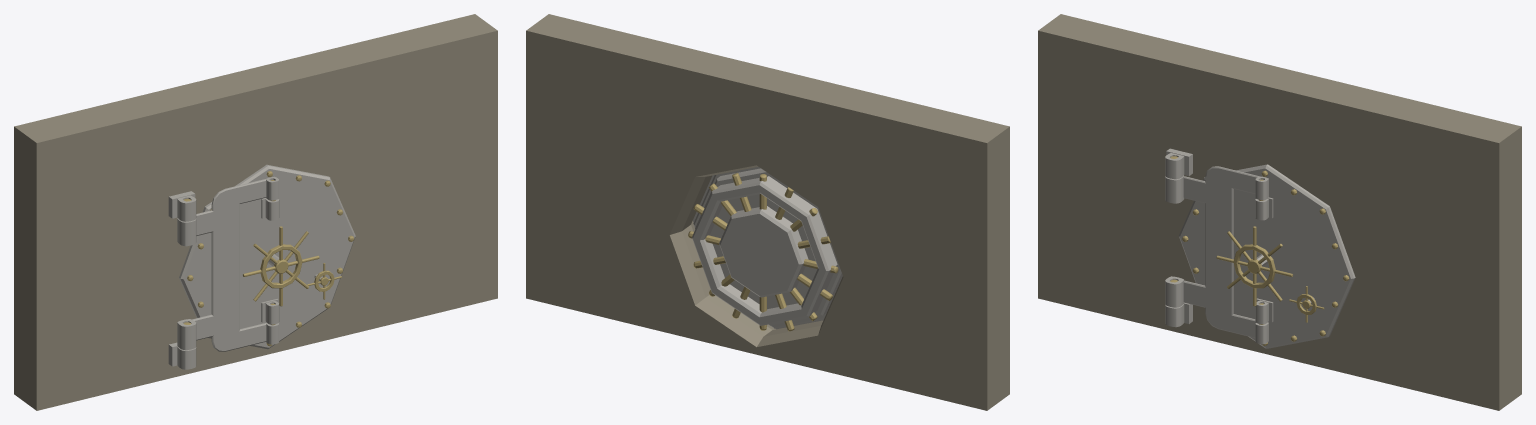
File: VaultDoor.fbx
The picture shows the model from 3 angles, left to right: view 1: azimuth 30°, elevation 25°; view 2: azimuth 150°, elevation 25°; view 3: azimuth 330°, elevation 25°; orthographic projection.
Parts seen in each view (by area): view 1: pCylinder17, polySurface9, pCylinder18, pCylinder9; view 2: pCylinder17, polySurface9; view 3: pCylinder17, polySurface9, pCylinder18, pCylinder9.
Part boxes in pixels (x1,y1,x2,y2): pCylinder17: (14,14,497,410); polySurface9: (179,164,355,349); pCylinder18: (177,176,278,351); pCylinder9: (243,226,319,306); pCylinder17: (526,14,1009,410); polySurface9: (688,167,842,331); pCylinder17: (1038,14,1521,410); polySurface9: (1179,164,1355,348); pCylinder18: (1165,166,1268,344); pCylinder9: (1216,226,1292,306).
Size of the model in its own units: 5.65 by 3.14 by 0.8063.
